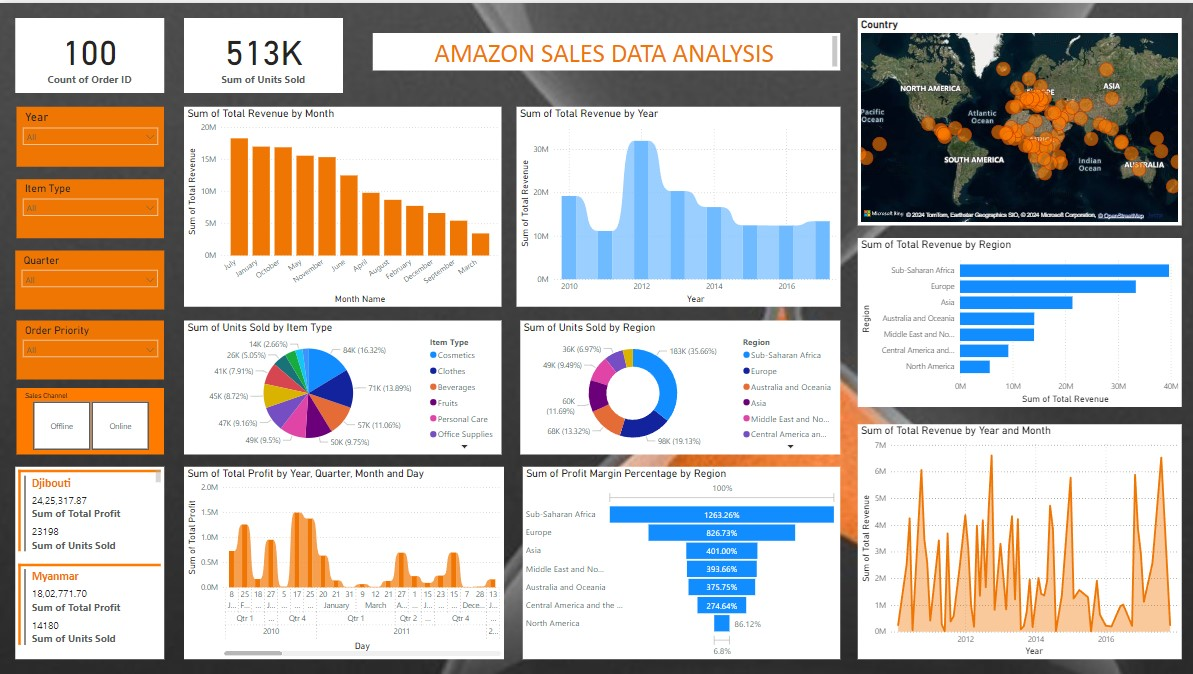

Layout of this report page (visuals, bound fields, positions):
{"tool":"powerbi","page":{"name":"Amazon Sales Dashboard","canvas":[1920,1080],"ordinal":0},"visuals":[{"type":"card","fields":{"Values":["CountNonNull(Amazon Sales Data(Final).Order ID)"]},"box":[26,24,238,120],"z":0},{"type":"card","fields":{"Values":["Sum(Amazon Sales Data(Final).Units Sold)"]},"box":[296,24,254,120],"z":1},{"type":"slicer","fields":{"Values":["Amazon Sales Data(Final).Year"]},"box":[28,166,236,96],"z":2},{"type":"textbox","box":[598,48,748,60],"z":3},{"type":"slicer","fields":{"Values":["Amazon Sales Data(Final).Quarter"]},"box":[26,396,238,94],"z":4},{"type":"slicer","fields":{"Values":["Amazon Sales Data(Final).Order Priority"]},"box":[28,508,236,94],"z":5},{"type":"slicer","fields":{"Values":["Amazon Sales Data(Final).Item Type"]},"box":[28,282,236,94],"z":6},{"type":"map","fields":{"Category":["Amazon Sales Data(Final).Country"]},"box":[1374,24,518,332],"z":7},{"type":"slicer","fields":{"Values":["Amazon Sales Data(Final).Sales Channel"]},"box":[28,616,236,106],"z":8},{"type":"columnChart","title":"Sum of Total Revenue by Month","fields":{"Category":["Amazon Sales Data(Final).Month Name"],"Y":["Sum(Amazon Sales Data(Final).Total Revenue)"]},"box":[296,166,508,320],"z":9},{"type":"barChart","fields":{"Category":["Amazon Sales Data(Final).Region"],"Y":["Sum(Amazon Sales Data(Final).Total Revenue)"]},"box":[1374,376,518,270],"z":10},{"type":"donutChart","fields":{"Y":["Sum(Amazon Sales Data(Final).Units Sold)"],"Category":["Amazon Sales Data(Final).Region"]},"box":[834,508,512,214],"z":11},{"type":"pieChart","fields":{"Category":["Amazon Sales Data(Final).Item Type"],"Y":["Sum(Amazon Sales Data(Final).Units Sold)"]},"box":[296,508,508,214],"z":12},{"type":"lineChart","fields":{"Category":["Amazon Sales Data(Final).Order Date.Variation.Date Hierarchy.Year","Amazon Sales Data(Final).Order Date.Variation.Date Hierarchy.Month"],"Y":["Sum(Amazon Sales Data(Final).Total Revenue)"]},"box":[1374,674,518,376],"z":13},{"type":"ribbonChart","fields":{"Category":["Amazon Sales Data(Final).Order Date.Variation.Date Hierarchy.Year"],"Y":["Sum(Amazon Sales Data(Final).Total Revenue)"]},"box":[828,166,518,320],"z":14},{"type":"multiRowCard","fields":{"Values":["Sum(Amazon Sales Data(Final).Total Profit)","Amazon Sales Data(Final).Country","Sum(Amazon Sales Data(Final).Units Sold)"]},"box":[26,742,238,308],"z":15},{"type":"funnel","fields":{"Y":["Sum(Amazon Sales Data(Final).Profit Margin Percentage)"],"Category":["Amazon Sales Data(Final).Region"]},"box":[838,742,508,308],"z":16},{"type":"ribbonChart","fields":{"Y":["Sum(Amazon Sales Data(Final).Total Profit)"],"Category":["Amazon Sales Data(Final).Ship Date.Variation.Date Hierarchy.Year","Amazon Sales Data(Final).Ship Date.Variation.Date Hierarchy.Quarter","Amazon Sales Data(Final).Ship Date.Variation.Date Hierarchy.Month","Amazon Sales Data(Final).Ship Date.Variation.Date Hierarchy.Day"]},"box":[296,742,512,308],"z":17}]}

Visuals, with their boxes in screenshot pixels (x1, y1, x2, y2), scaled from the page's 1920x1080 canvas onto the 1193x674 screenshot:
card - CountNonNull(Amazon Sales Data(Final).Order ID): x1=16, y1=15, x2=164, y2=90
card - Sum(Amazon Sales Data(Final).Units Sold): x1=184, y1=15, x2=342, y2=90
slicer - Amazon Sales Data(Final).Year: x1=17, y1=104, x2=164, y2=164
textbox: x1=372, y1=30, x2=836, y2=67
slicer - Amazon Sales Data(Final).Quarter: x1=16, y1=247, x2=164, y2=306
slicer - Amazon Sales Data(Final).Order Priority: x1=17, y1=317, x2=164, y2=376
slicer - Amazon Sales Data(Final).Item Type: x1=17, y1=176, x2=164, y2=235
map - Amazon Sales Data(Final).Country: x1=854, y1=15, x2=1176, y2=222
slicer - Amazon Sales Data(Final).Sales Channel: x1=17, y1=384, x2=164, y2=451
"Sum of Total Revenue by Month" columnChart: x1=184, y1=104, x2=500, y2=303
barChart - Amazon Sales Data(Final).Region x Sum(Amazon Sales Data(Final).Total Revenue): x1=854, y1=235, x2=1176, y2=403
donutChart - Sum(Amazon Sales Data(Final).Units Sold) x Amazon Sales Data(Final).Region: x1=518, y1=317, x2=836, y2=451
pieChart - Amazon Sales Data(Final).Item Type x Sum(Amazon Sales Data(Final).Units Sold): x1=184, y1=317, x2=500, y2=451
lineChart - Amazon Sales Data(Final).Order Date.Variation.Date Hierarchy.Year x Amazon Sales Data(Final).Order Date.Variation.Date Hierarchy.Month: x1=854, y1=421, x2=1176, y2=655
ribbonChart - Amazon Sales Data(Final).Order Date.Variation.Date Hierarchy.Year x Sum(Amazon Sales Data(Final).Total Revenue): x1=514, y1=104, x2=836, y2=303
multiRowCard - Sum(Amazon Sales Data(Final).Total Profit) x Amazon Sales Data(Final).Country: x1=16, y1=463, x2=164, y2=655
funnel - Sum(Amazon Sales Data(Final).Profit Margin Percentage) x Amazon Sales Data(Final).Region: x1=521, y1=463, x2=836, y2=655
ribbonChart - Sum(Amazon Sales Data(Final).Total Profit) x Amazon Sales Data(Final).Ship Date.Variation.Date Hierarchy.Year: x1=184, y1=463, x2=502, y2=655
